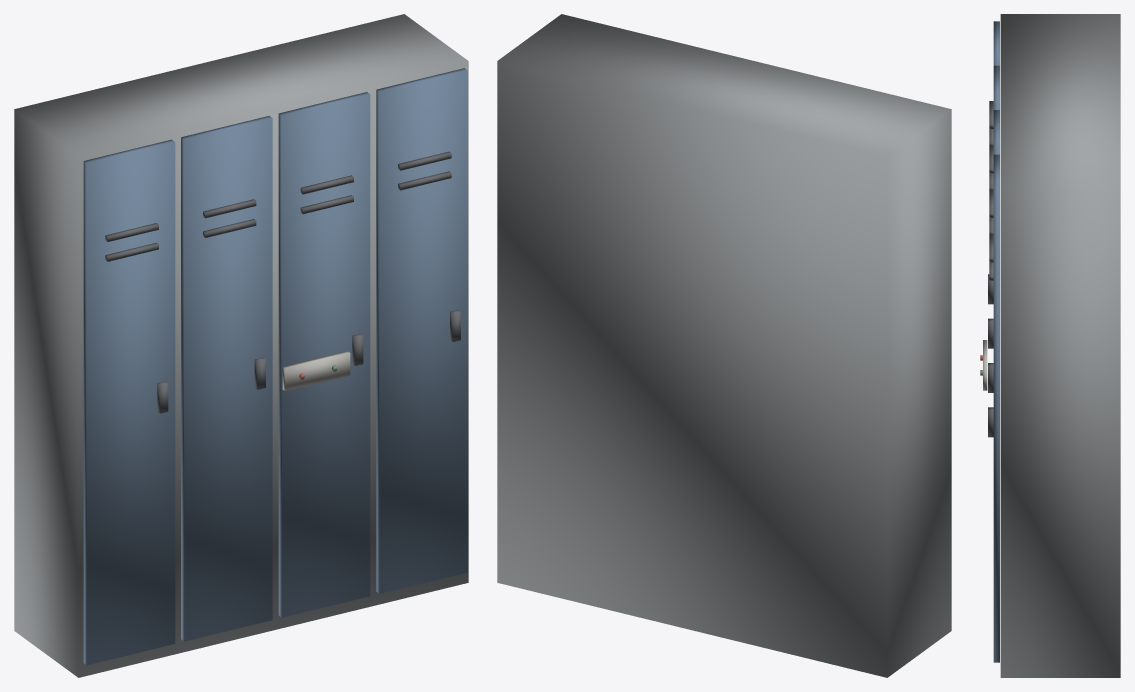
File: locker_bank__tall.glb
3 views of the same model, side by side, from view 1: azimuth 30°, elevation 25°; view 2: azimuth 150°, elevation 25°; view 3: azimuth 270°, elevation 25° (orthographic). The views are drawn at different scales.
Visible parts, largest first — view 1: world; view 2: world; view 3: world.
Boxes of the visible parts, x1,y1,x2,y2 form: world: (14,14,468,677); world: (497,14,951,677); world: (980,14,1120,677).
Size of the model in its own units: 1.68 by 2.15 by 0.561.
